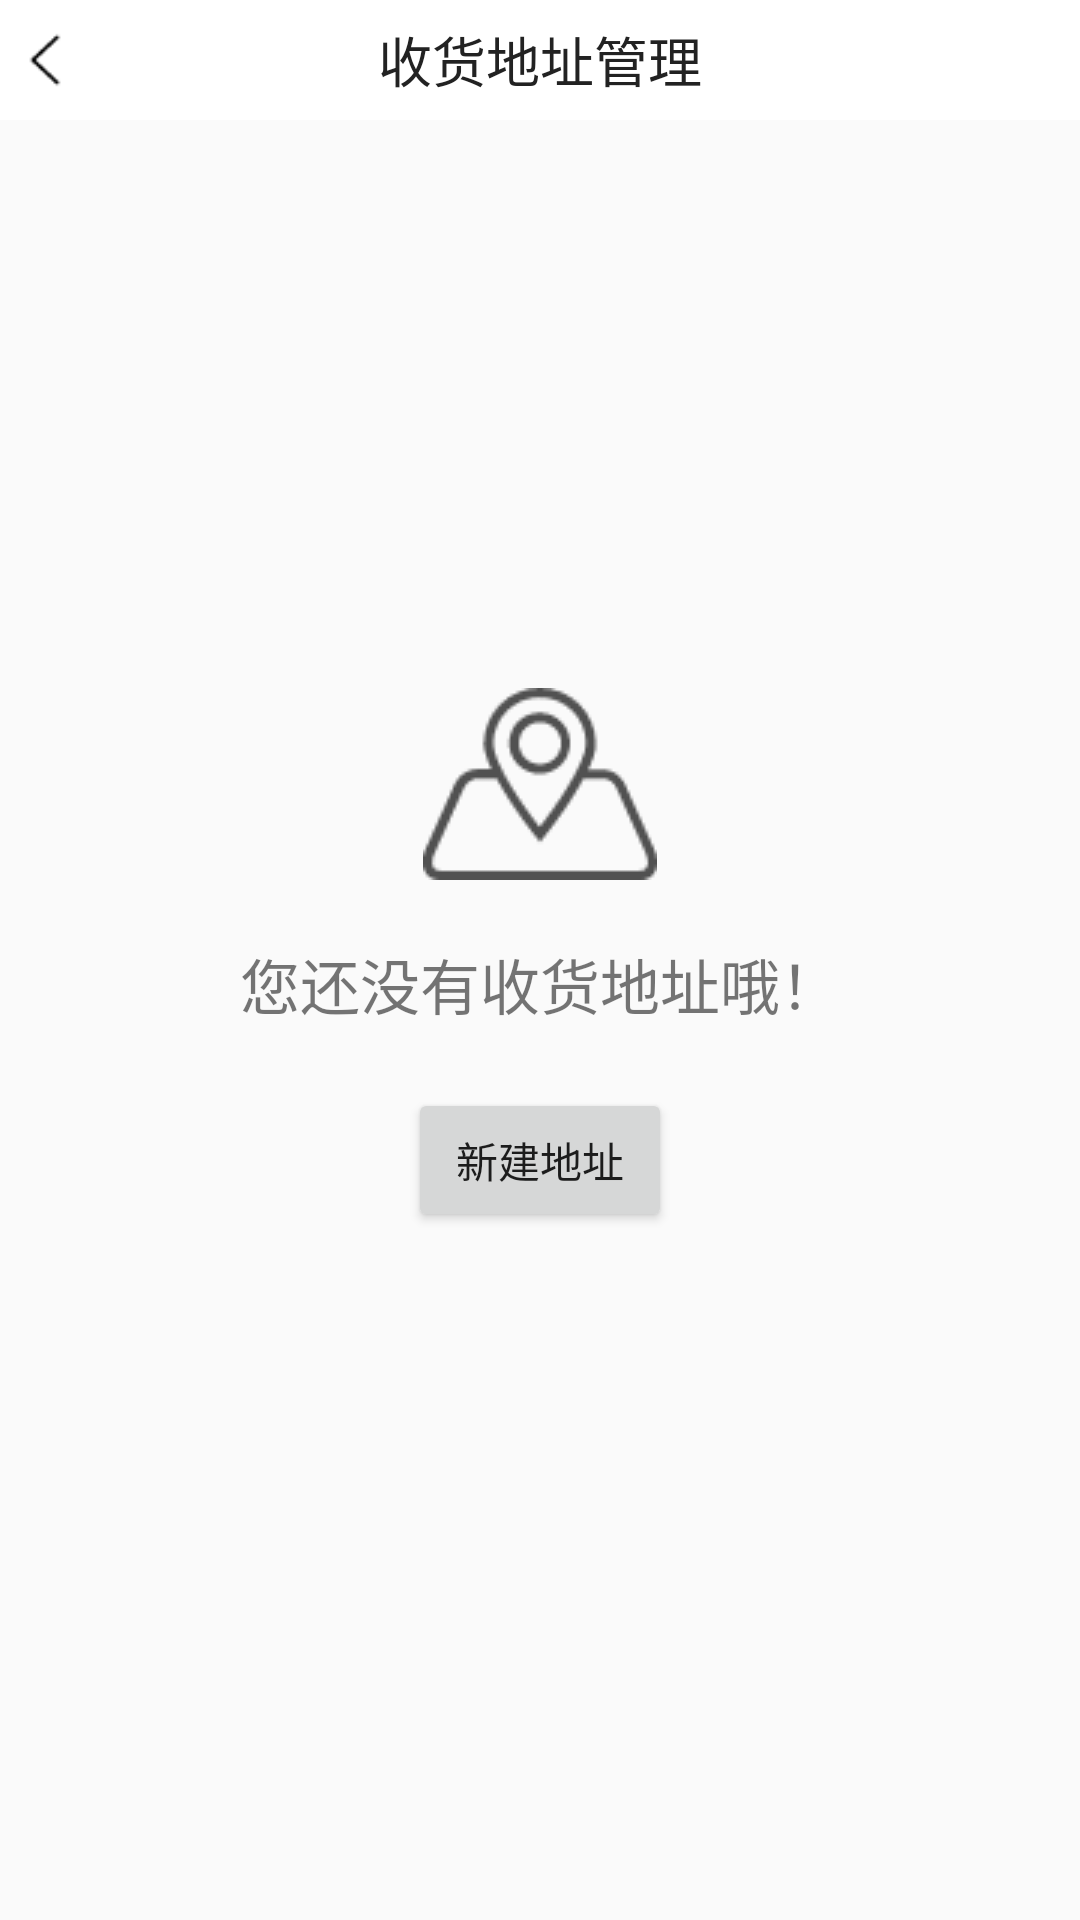

Point at icon controls on the screen. Image size 1080×1920, points as [x,y].
to left: [45,60]
